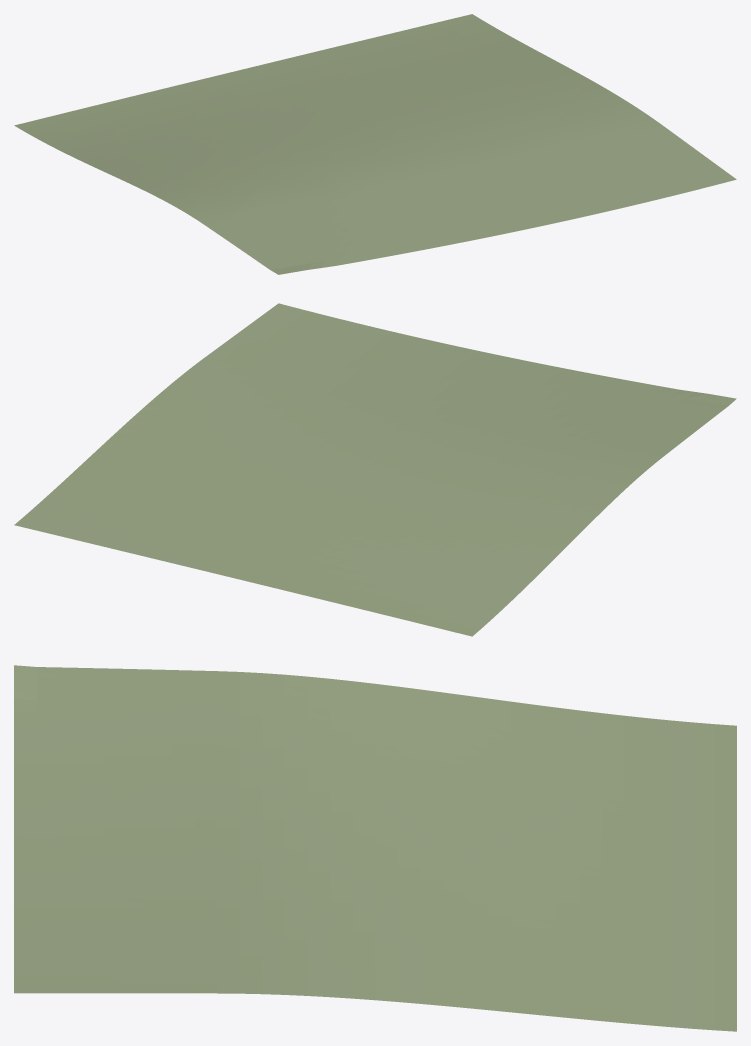
File: valley-8-8.glb
The picture shows the model from 3 angles, top to bottom: view 1: azimuth 30°, elevation 25°; view 2: azimuth 150°, elevation 25°; view 3: azimuth 270°, elevation 25°; orthographic projection. The views are drawn at different scales.
Parts seen in each view (by area): view 1: valley-8-8; view 2: valley-8-8; view 3: valley-8-8.
Boxes of the visible parts, bbox=[...] form: valley-8-8: bbox=[14, 14, 736, 274]; valley-8-8: bbox=[14, 303, 736, 636]; valley-8-8: bbox=[14, 665, 736, 1031].
Bounding box in the file's own units: 256 × 23.8 × 256.
